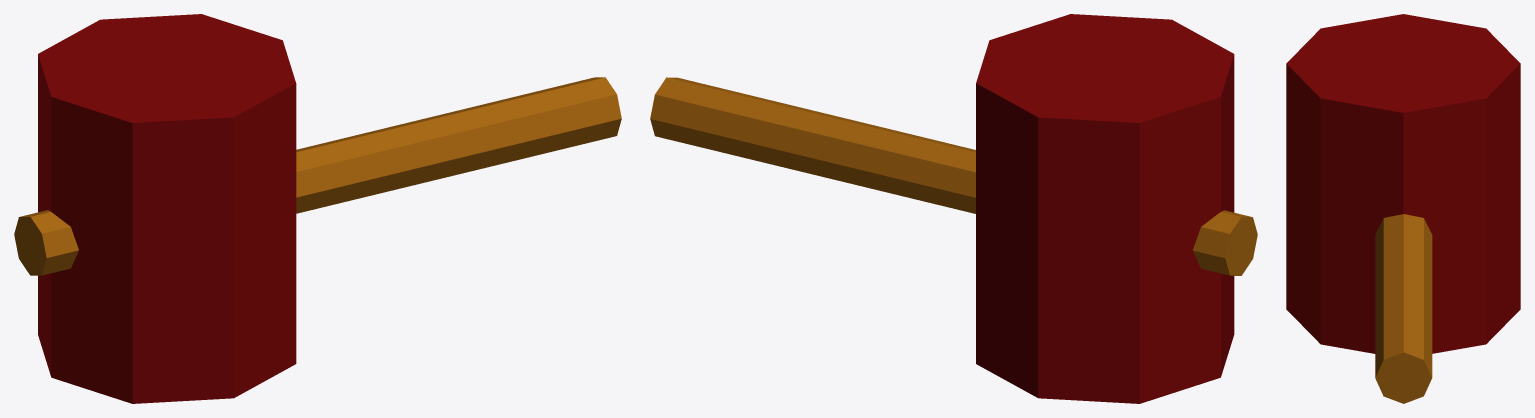
The model's file is hammer.fbx.
3 views of the same model, side by side, from view 1: azimuth 30°, elevation 25°; view 2: azimuth 150°, elevation 25°; view 3: azimuth 270°, elevation 25° (orthographic). The views are drawn at different scales.
Parts seen in each view (by area): view 1: hammer; view 2: hammer; view 3: hammer.
Boxes of the visible parts, left/top/right/bottom form: hammer: left=14, top=14, right=621, bottom=403; hammer: left=650, top=14, right=1257, bottom=403; hammer: left=1286, top=14, right=1520, bottom=403.
Size of the model in its own units: 261 by 122 by 105.
1 material, 1 textured.
